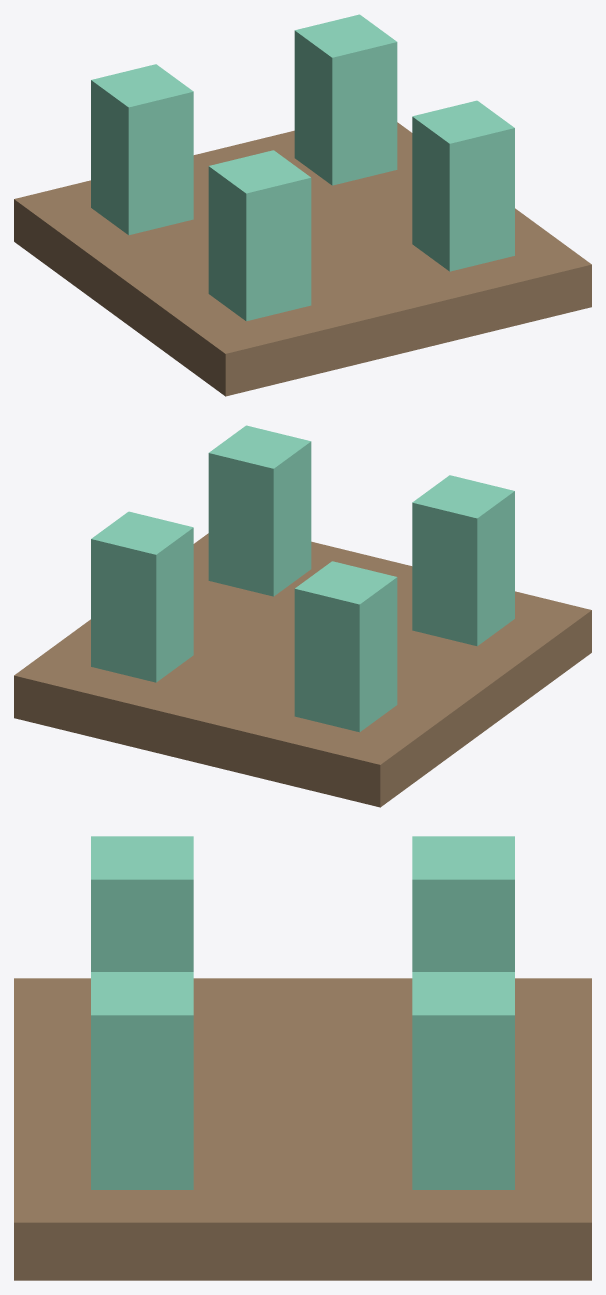
Rendered from Prop_DS_Crop_Clover_S2_V2.glb.
3 renders of one model, top to bottom at view 1: azimuth 30°, elevation 25°; view 2: azimuth 150°, elevation 25°; view 3: azimuth 270°, elevation 25°, orthographic. The views are drawn at different scales.
Visible parts, largest first — view 1: Cube, Cube.004, Cube.001, Cube.002, Cube.003; view 2: Cube, Cube.003, Cube.002, Cube.001, Cube.004; view 3: Cube, Cube.003, Cube.004, Cube.001, Cube.002.
Part boxes in pixels (x1,y1,x2,y2): Cube: (14, 122, 591, 396); Cube.004: (294, 14, 397, 185); Cube.001: (208, 150, 311, 321); Cube.002: (91, 64, 193, 235); Cube.003: (412, 100, 514, 271); Cube: (14, 533, 591, 807); Cube.003: (208, 425, 311, 596); Cube.002: (294, 561, 397, 732); Cube.001: (412, 475, 514, 646); Cube.004: (91, 511, 193, 682); Cube: (14, 978, 591, 1280); Cube.003: (91, 972, 193, 1189); Cube.004: (412, 972, 514, 1189); Cube.001: (91, 836, 193, 971); Cube.002: (412, 836, 514, 971).
Size of the model in its own units: 0.9 by 0.4 by 0.9.
